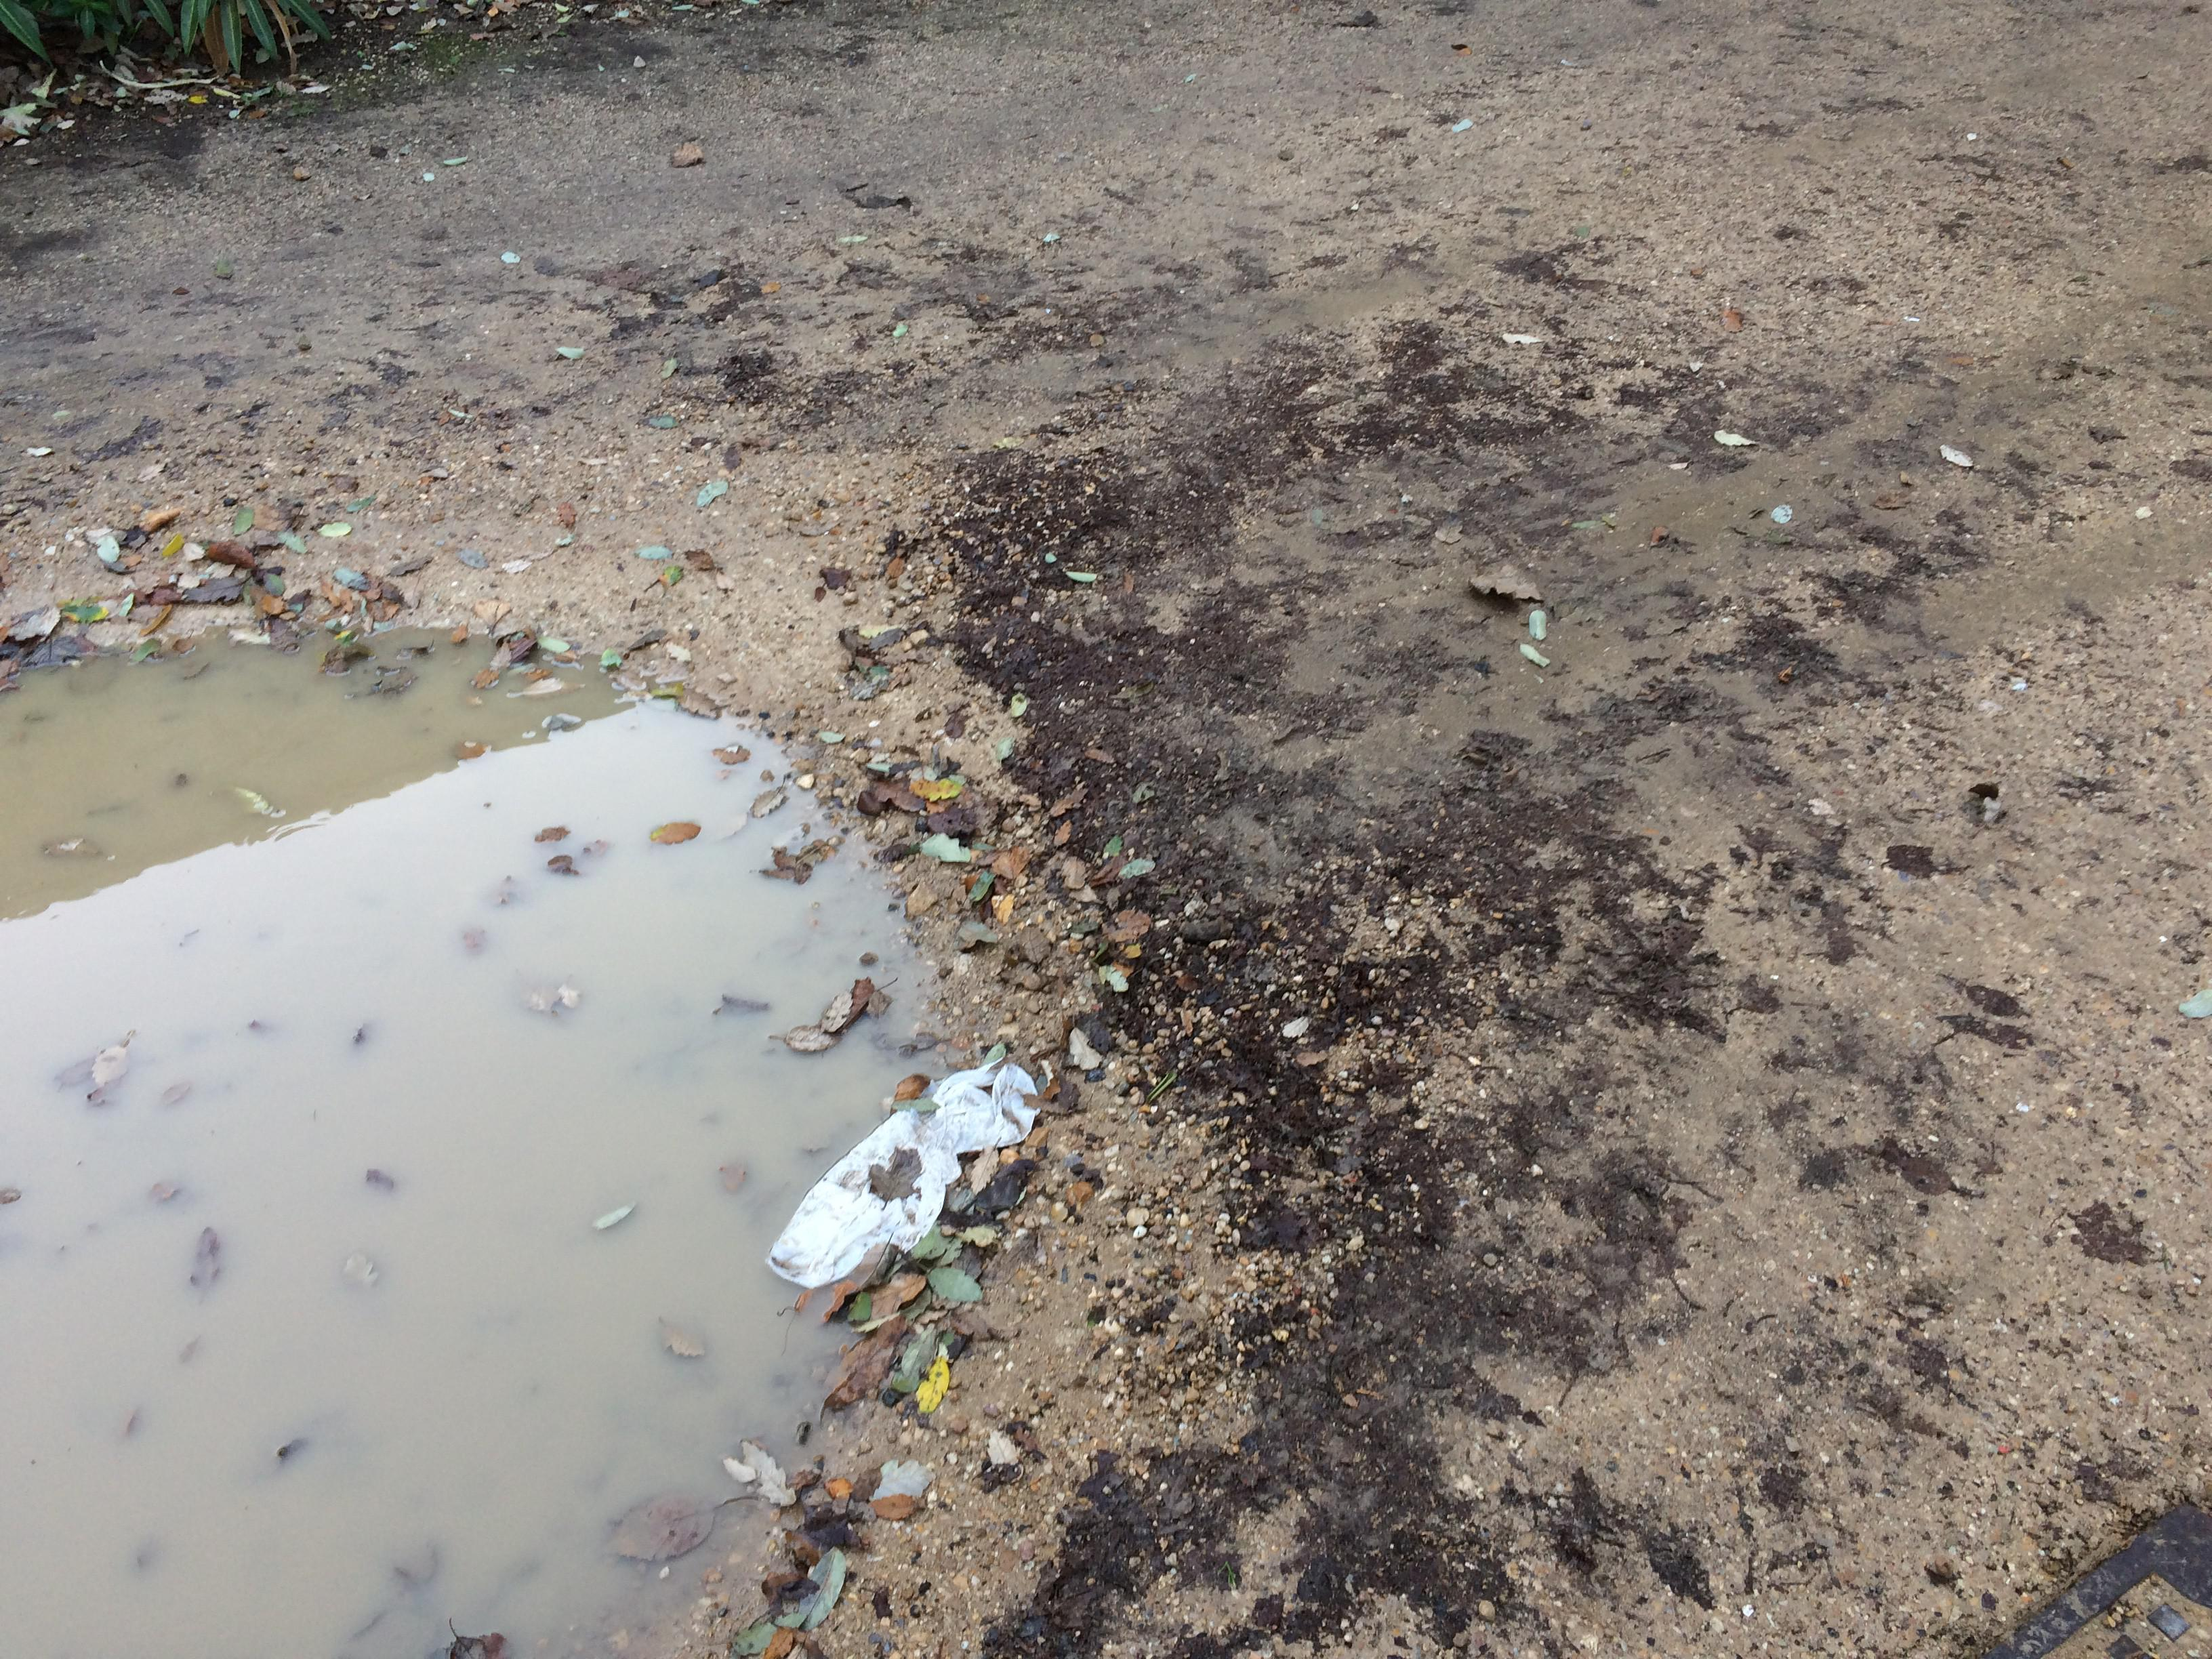Trash: (763, 1037, 1050, 1291)
